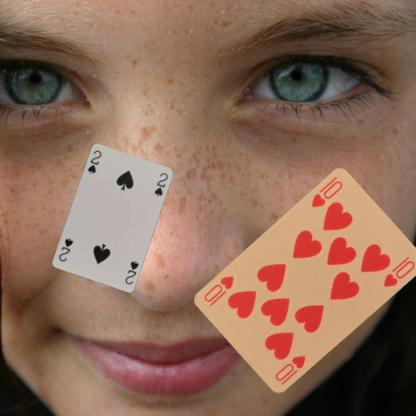10h: (272, 353, 308, 387), (308, 175, 344, 209)
2s: (122, 258, 140, 285), (85, 147, 102, 175)
